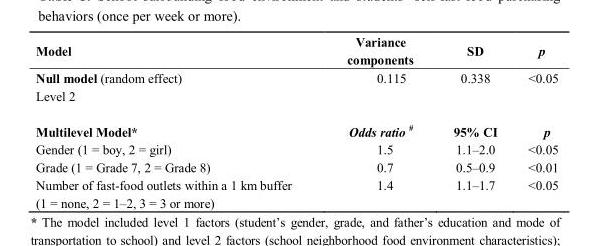table: (35, 34, 557, 209)
table column: (35, 34, 318, 209), (318, 34, 432, 209), (432, 34, 512, 209), (512, 34, 557, 209)
table column header: (35, 34, 557, 68)
table row: (35, 68, 557, 112), (35, 34, 557, 68), (35, 175, 557, 209), (35, 112, 557, 140), (35, 157, 557, 175), (35, 140, 557, 157)
